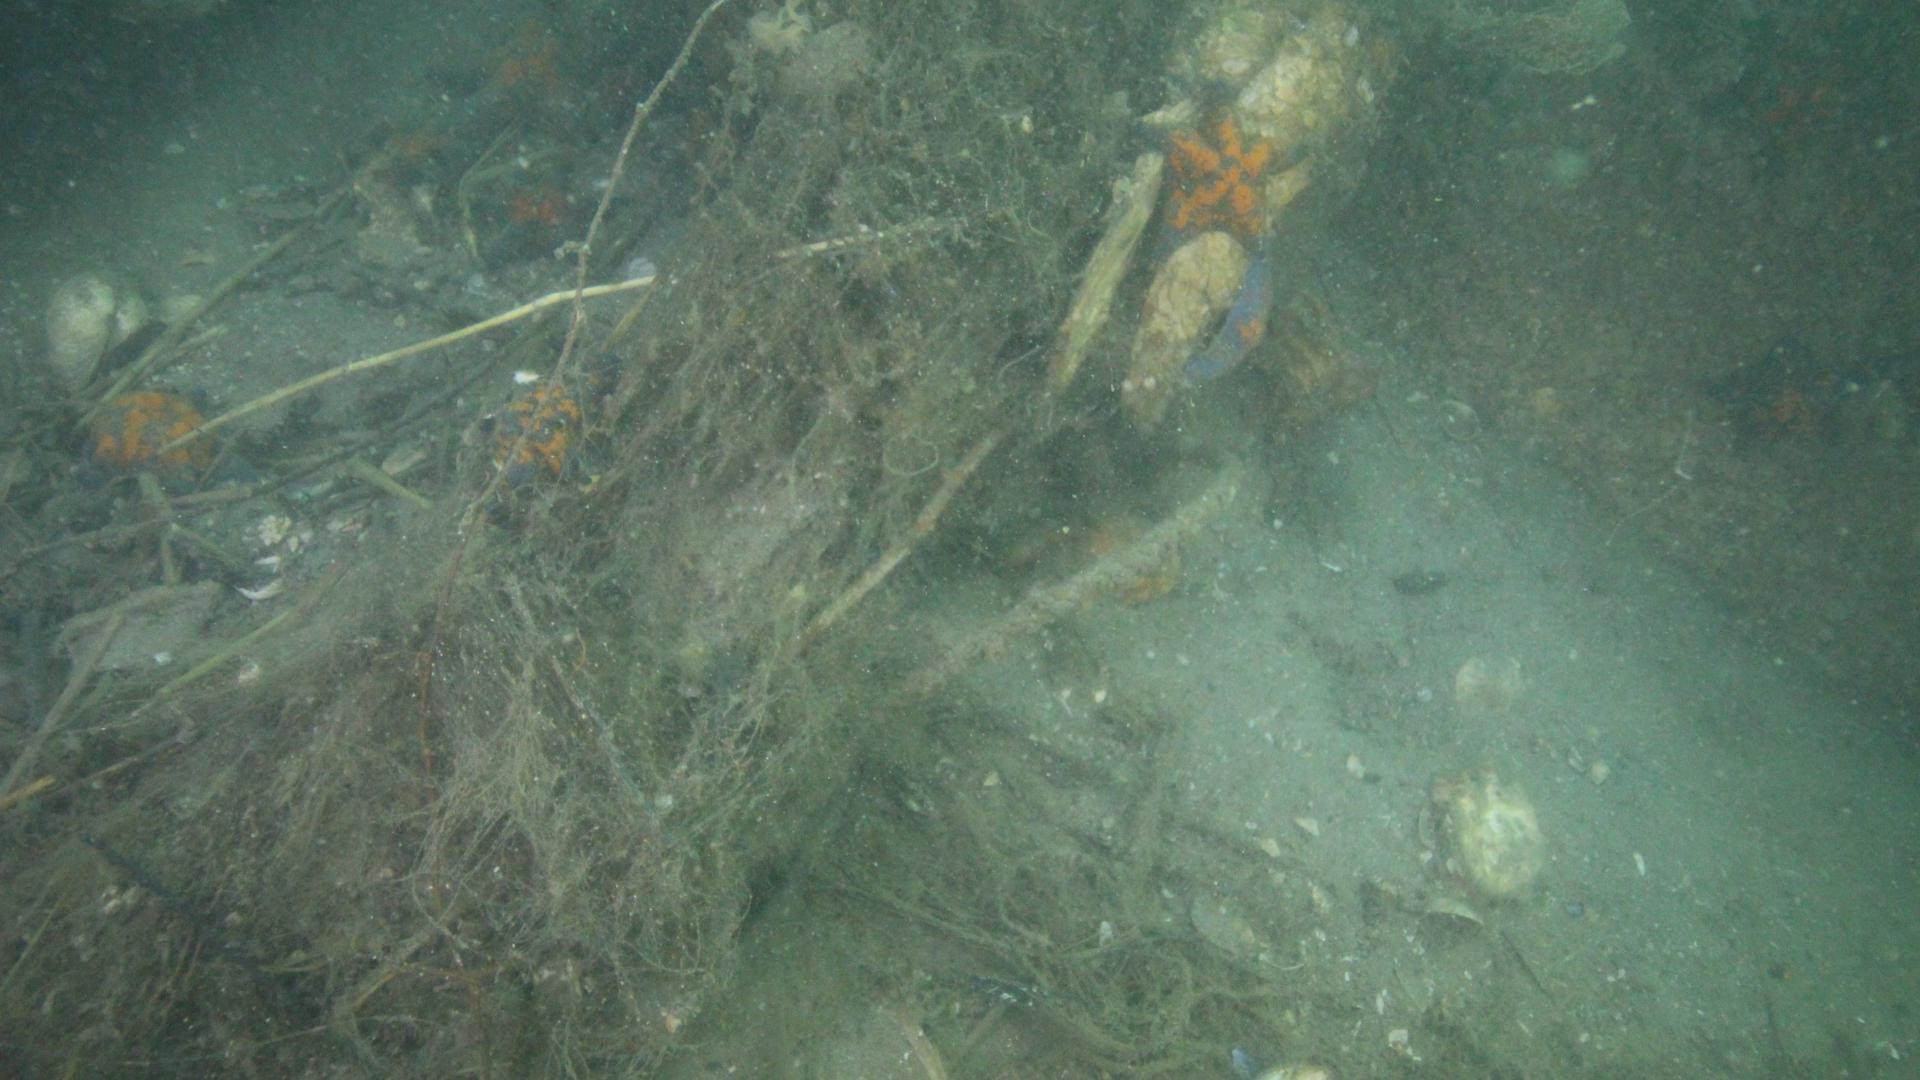rope: (885, 447, 1245, 713)
